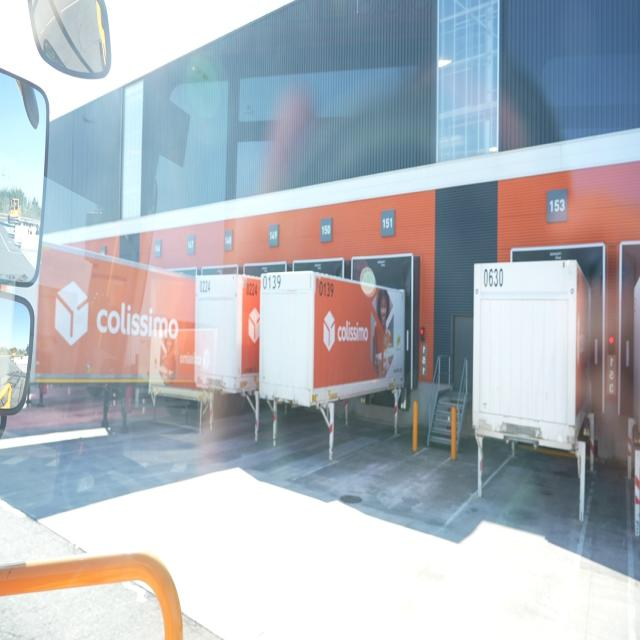Code: (481, 265, 504, 293), (316, 273, 338, 299), (262, 272, 284, 294), (197, 276, 214, 297), (244, 275, 259, 297)
